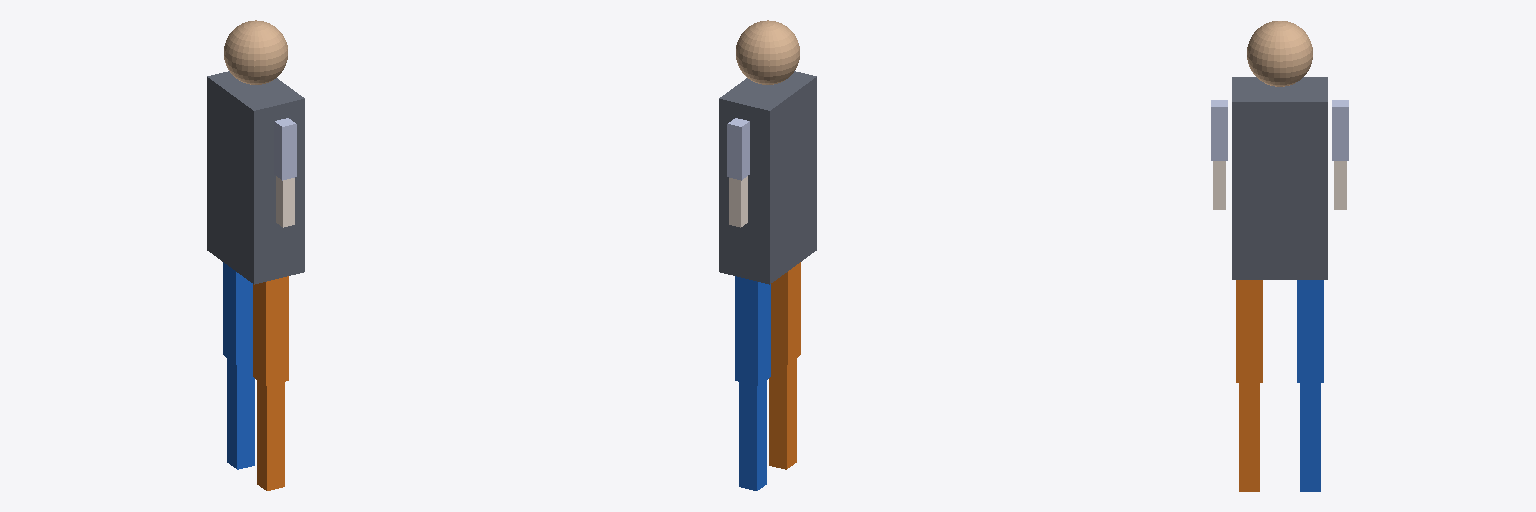
robot.urdf — humanoid_arm_v4:
<?xml version="1.0"?>
<!-- ==========================================================================
     humanoid_arm_v4.urdf — humanoid body carrying two replicas of the
     PHYSICAL ARM (arm_sim / armRosFile), with v3 legs.
     ==========================================================================
     Arms are exact copies of the physical arm's joint structure:
       *_shoulder_flex : about y, -90..+90 deg  (the arm's 180 deg about y)
       *_shoulder_abd  : about x, -90..+90 deg  (the arm's 180 deg about x)
                         positive = away from the body, both sides
       *_elbow         : gear-driven joint, 0..150 deg
     Segment sizes/masses match arm_sim.urdf (bicep 0.20 m / 0.245 kg,
     forearm 0.18 m / 0.158 kg), drawn in the physical arm's steel/cream
     colors so it's obvious these ARE the hardware arms.

     Legs are the familiar v3 legs (hip flex+abd, knee), blue=left,
     orange=right.

     Torso is 0.32 wide (slimmer than v3's 0.34) so hanging arms have real
     clearance; every segment has a collision box, and the receiver runs a
     contact check each tick so limbs cannot pass through the body.
     ========================================================================== -->
<robot name="humanoid_arm_v4">

  <link name="torso">
    <visual>
      <geometry><box size="0.20 0.32 0.65"/></geometry>
      <origin xyz="0 0 0.325"/>
      <material name="gray"><color rgba="0.45 0.47 0.52 1"/></material>
    </visual>
    <collision><geometry><box size="0.20 0.32 0.65"/></geometry><origin xyz="0 0 0.325"/></collision>
    <inertial><mass value="8.0"/><inertia ixx="0.1" iyy="0.1" izz="0.05" ixy="0" ixz="0" iyz="0"/></inertial>
    <visual>
      <geometry><sphere radius="0.11"/></geometry>
      <origin xyz="0 0 0.78"/>
      <material name="tan"><color rgba="0.85 0.72 0.6 1"/></material>
    </visual>
  </link>

  <!-- ================= LEFT ARM (physical-arm replica) ================== -->
  <joint name="L_shoulder_flex" type="revolute">
    <parent link="torso"/><child link="L_shoulder_link"/>
    <origin xyz="0 0.20 0.6"/><axis xyz="0 -1 0"/>
    <limit lower="-1.5708" upper="1.5708" effort="30" velocity="6"/>
  </joint>
  <link name="L_shoulder_link">
    <inertial><mass value="0.05"/><inertia ixx="1e-4" iyy="1e-4" izz="1e-4" ixy="0" ixz="0" iyz="0"/></inertial>
  </link>
  <joint name="L_shoulder_abd" type="revolute">
    <parent link="L_shoulder_link"/><child link="L_bicep"/>
    <origin xyz="0 0 0"/><axis xyz="1 0 0"/>
    <limit lower="-1.5708" upper="1.5708" effort="30" velocity="6"/>
  </joint>
  <link name="L_bicep">
    <visual><geometry><box size="0.055 0.055 0.20"/></geometry><origin xyz="0 0 -0.10"/>
      <material name="steel"><color rgba="0.79 0.82 0.93 1"/></material></visual>
    <collision><geometry><box size="0.055 0.055 0.20"/></geometry><origin xyz="0 0 -0.10"/></collision>
    <inertial><mass value="0.245"/><origin xyz="0 0 -0.10"/><inertia ixx="0.0011" iyy="0.0011" izz="0.0005" ixy="0" ixz="0" iyz="0"/></inertial>
  </link>
  <joint name="L_elbow" type="revolute">
    <parent link="L_bicep"/><child link="L_forearm"/>
    <origin xyz="0 0 -0.20"/><axis xyz="0 -1 0"/>
    <limit lower="0" upper="2.618" effort="30" velocity="6"/>
  </joint>
  <link name="L_forearm">
    <visual><geometry><box size="0.045 0.045 0.18"/></geometry><origin xyz="0 0 -0.09"/>
      <material name="cream"><color rgba="1 0.95 0.91 1"/></material></visual>
    <collision><geometry><box size="0.045 0.045 0.18"/></geometry><origin xyz="0 0 -0.09"/></collision>
    <inertial><mass value="0.158"/><origin xyz="0 0 -0.09"/><inertia ixx="0.0003" iyy="0.0003" izz="0.0001" ixy="0" ixz="0" iyz="0"/></inertial>
  </link>

  <!-- ================= RIGHT ARM (physical-arm replica) ================= -->
  <joint name="R_shoulder_flex" type="revolute">
    <parent link="torso"/><child link="R_shoulder_link"/>
    <origin xyz="0 -0.20 0.6"/><axis xyz="0 -1 0"/>
    <limit lower="-1.5708" upper="1.5708" effort="30" velocity="6"/>
  </joint>
  <link name="R_shoulder_link">
    <inertial><mass value="0.05"/><inertia ixx="1e-4" iyy="1e-4" izz="1e-4" ixy="0" ixz="0" iyz="0"/></inertial>
  </link>
  <joint name="R_shoulder_abd" type="revolute">
    <parent link="R_shoulder_link"/><child link="R_bicep"/>
    <origin xyz="0 0 0"/><axis xyz="-1 0 0"/>
    <limit lower="-1.5708" upper="1.5708" effort="30" velocity="6"/>
  </joint>
  <link name="R_bicep">
    <visual><geometry><box size="0.055 0.055 0.20"/></geometry><origin xyz="0 0 -0.10"/>
      <material name="steel"/></visual>
    <collision><geometry><box size="0.055 0.055 0.20"/></geometry><origin xyz="0 0 -0.10"/></collision>
    <inertial><mass value="0.245"/><origin xyz="0 0 -0.10"/><inertia ixx="0.0011" iyy="0.0011" izz="0.0005" ixy="0" ixz="0" iyz="0"/></inertial>
  </link>
  <joint name="R_elbow" type="revolute">
    <parent link="R_bicep"/><child link="R_forearm"/>
    <origin xyz="0 0 -0.20"/><axis xyz="0 -1 0"/>
    <limit lower="0" upper="2.618" effort="30" velocity="6"/>
  </joint>
  <link name="R_forearm">
    <visual><geometry><box size="0.045 0.045 0.18"/></geometry><origin xyz="0 0 -0.09"/>
      <material name="cream"/></visual>
    <collision><geometry><box size="0.045 0.045 0.18"/></geometry><origin xyz="0 0 -0.09"/></collision>
    <inertial><mass value="0.158"/><origin xyz="0 0 -0.09"/><inertia ixx="0.0003" iyy="0.0003" izz="0.0001" ixy="0" ixz="0" iyz="0"/></inertial>
  </link>

  <!-- ======================== LEFT LEG (v3) ============================= -->
  <joint name="L_hip_flex" type="revolute">
    <parent link="torso"/><child link="L_hip_link"/>
    <origin xyz="0 0.10 0"/><axis xyz="0 -1 0"/>
    <limit lower="-1.0" upper="2.1" effort="80" velocity="8"/>
  </joint>
  <link name="L_hip_link">
    <inertial><mass value="0.05"/><inertia ixx="1e-4" iyy="1e-4" izz="1e-4" ixy="0" ixz="0" iyz="0"/></inertial>
  </link>
  <joint name="L_hip_abd" type="revolute">
    <parent link="L_hip_link"/><child link="L_thigh"/>
    <origin xyz="0 0 0"/><axis xyz="1 0 0"/>
    <limit lower="-0.4" upper="1.2" effort="80" velocity="8"/>
  </joint>
  <link name="L_thigh">
    <visual><geometry><box size="0.09 0.09 0.40"/></geometry><origin xyz="0 0 -0.20"/>
      <material name="blue"><color rgba="0.2 0.5 0.9 1"/></material></visual>
    <collision><geometry><box size="0.09 0.09 0.40"/></geometry><origin xyz="0 0 -0.20"/></collision>
    <inertial><mass value="1.5"/><origin xyz="0 0 -0.20"/><inertia ixx="0.02" iyy="0.02" izz="0.003" ixy="0" ixz="0" iyz="0"/></inertial>
  </link>
  <joint name="L_knee" type="revolute">
    <parent link="L_thigh"/><child link="L_shin"/>
    <origin xyz="0 0 -0.40"/><axis xyz="0 1 0"/>
    <limit lower="0" upper="2.4" effort="80" velocity="8"/>
  </joint>
  <link name="L_shin">
    <visual><geometry><box size="0.07 0.07 0.40"/></geometry><origin xyz="0 0 -0.20"/>
      <material name="blue"/></visual>
    <collision><geometry><box size="0.07 0.07 0.40"/></geometry><origin xyz="0 0 -0.20"/></collision>
    <inertial><mass value="1.0"/><origin xyz="0 0 -0.20"/><inertia ixx="0.014" iyy="0.014" izz="0.002" ixy="0" ixz="0" iyz="0"/></inertial>
  </link>

  <!-- ======================== RIGHT LEG (v3) ============================ -->
  <joint name="R_hip_flex" type="revolute">
    <parent link="torso"/><child link="R_hip_link"/>
    <origin xyz="0 -0.10 0"/><axis xyz="0 -1 0"/>
    <limit lower="-1.0" upper="2.1" effort="80" velocity="8"/>
  </joint>
  <link name="R_hip_link">
    <inertial><mass value="0.05"/><inertia ixx="1e-4" iyy="1e-4" izz="1e-4" ixy="0" ixz="0" iyz="0"/></inertial>
  </link>
  <joint name="R_hip_abd" type="revolute">
    <parent link="R_hip_link"/><child link="R_thigh"/>
    <origin xyz="0 0 0"/><axis xyz="-1 0 0"/>
    <limit lower="-0.4" upper="1.2" effort="80" velocity="8"/>
  </joint>
  <link name="R_thigh">
    <visual><geometry><box size="0.09 0.09 0.40"/></geometry><origin xyz="0 0 -0.20"/>
      <material name="orange"><color rgba="0.95 0.55 0.2 1"/></material></visual>
    <collision><geometry><box size="0.09 0.09 0.40"/></geometry><origin xyz="0 0 -0.20"/></collision>
    <inertial><mass value="1.5"/><origin xyz="0 0 -0.20"/><inertia ixx="0.02" iyy="0.02" izz="0.003" ixy="0" ixz="0" iyz="0"/></inertial>
  </link>
  <joint name="R_knee" type="revolute">
    <parent link="R_thigh"/><child link="R_shin"/>
    <origin xyz="0 0 -0.40"/><axis xyz="0 1 0"/>
    <limit lower="0" upper="2.4" effort="80" velocity="8"/>
  </joint>
  <link name="R_shin">
    <visual><geometry><box size="0.07 0.07 0.40"/></geometry><origin xyz="0 0 -0.20"/>
      <material name="orange"/></visual>
    <collision><geometry><box size="0.07 0.07 0.40"/></geometry><origin xyz="0 0 -0.20"/></collision>
    <inertial><mass value="1.0"/><origin xyz="0 0 -0.20"/><inertia ixx="0.014" iyy="0.014" izz="0.002" ixy="0" ixz="0" iyz="0"/></inertial>
  </link>

</robot>

--- What the picture shows (computed from the rendered views, not written in the file) ---
Views: 3 orthographic renders of the robot side by side, from view 1: azimuth 30°, elevation 25°; view 2: azimuth 150°, elevation 25°; view 3: azimuth 270°, elevation 25°.
Model humanoid_arm_v4 with 13 links and 12 joints (12 revolute), rooted at torso, posed all joints at 0.
Links seen in each view (by area): view 1: torso, R_thigh, R_shin, L_shin, L_thigh, R_bicep, R_forearm; view 2: torso, L_thigh, L_shin, R_shin, R_thigh, L_bicep, L_forearm; view 3: torso, L_thigh, R_thigh, L_shin, R_shin, L_bicep, R_bicep, L_forearm, R_forearm.
Boxes of the visible links, bbox=[...] form: torso: bbox=[207, 20, 304, 284]; R_thigh: bbox=[253, 276, 288, 385]; R_shin: bbox=[257, 380, 284, 490]; L_shin: bbox=[227, 358, 254, 469]; L_thigh: bbox=[223, 262, 252, 364]; R_bicep: bbox=[274, 118, 296, 180]; R_forearm: bbox=[276, 176, 294, 227]; torso: bbox=[719, 20, 816, 284]; L_thigh: bbox=[735, 276, 770, 385]; L_shin: bbox=[739, 380, 766, 490]; R_shin: bbox=[769, 358, 796, 469]; R_thigh: bbox=[771, 262, 800, 364]; L_bicep: bbox=[727, 118, 749, 180]; L_forearm: bbox=[729, 176, 747, 227]; torso: bbox=[1232, 21, 1327, 279]; L_thigh: bbox=[1297, 280, 1323, 382]; R_thigh: bbox=[1236, 280, 1262, 382]; L_shin: bbox=[1300, 383, 1320, 491]; R_shin: bbox=[1239, 383, 1259, 491]; L_bicep: bbox=[1332, 100, 1348, 160]; R_bicep: bbox=[1211, 100, 1227, 160]; L_forearm: bbox=[1334, 161, 1346, 209]; R_forearm: bbox=[1213, 161, 1225, 209].
Bounding box of the posed robot: 0.22 × 0.455 × 1.69 m (x, y, z).
Geometry: primitives only (box / cylinder / sphere), no mesh files.
